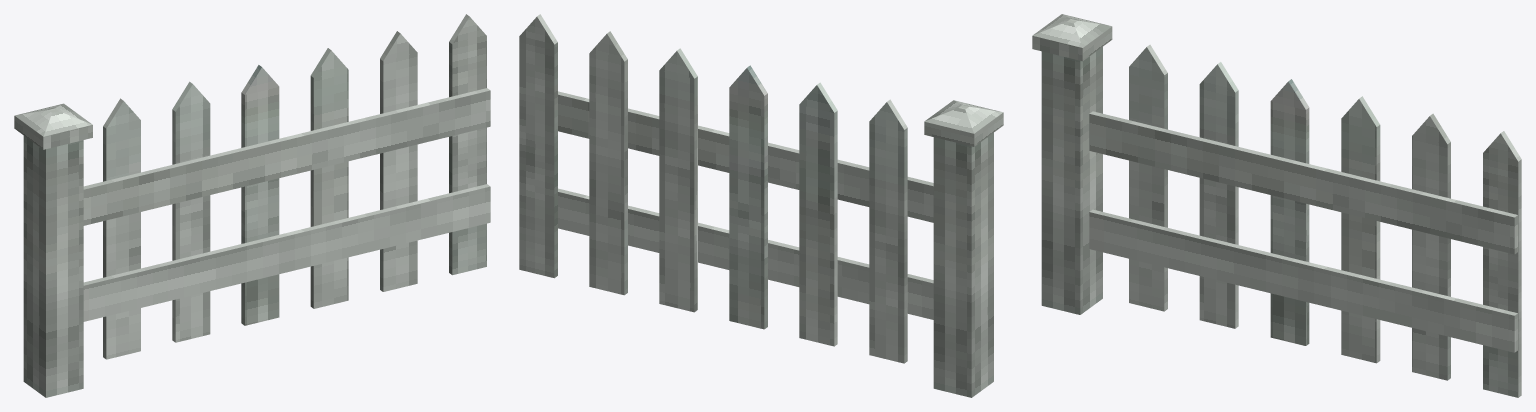
The model's file is white_picket_fence_closed_right.glb.
The picture shows the model from 3 angles, left to right: view 1: azimuth 30°, elevation 25°; view 2: azimuth 150°, elevation 25°; view 3: azimuth 330°, elevation 25°; orthographic projection. The views are drawn at different scales.
Visible parts, largest first — view 1: white_picket_fence_closed_right; view 2: white_picket_fence_closed_right; view 3: white_picket_fence_closed_right.
Part boxes in pixels (left/top/right/bottom): white_picket_fence_closed_right: left=14, top=14, right=490, bottom=397; white_picket_fence_closed_right: left=519, top=14, right=1003, bottom=397; white_picket_fence_closed_right: left=1032, top=14, right=1521, bottom=397.
Size of the model in its own units: 2.39 by 1.37 by 0.2613.
Materials: 1 (1 with a texture image).
